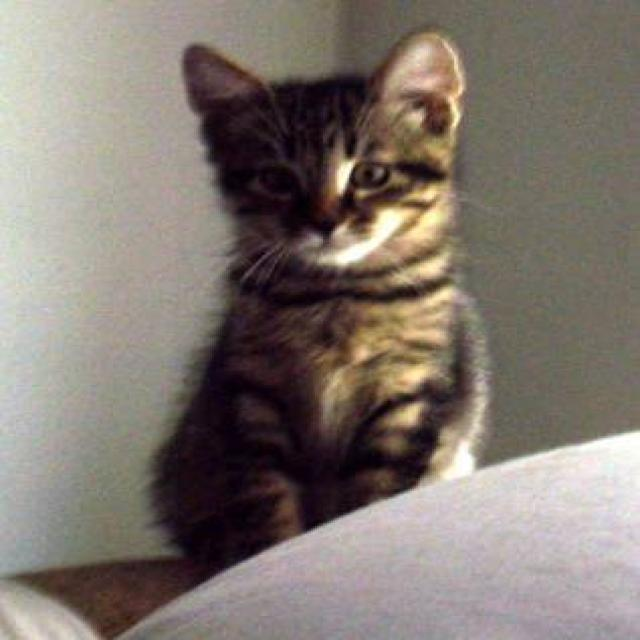cat: (145, 28, 493, 574)
